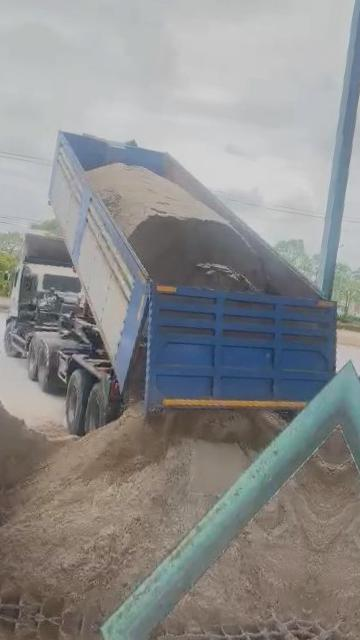sand: (0, 329, 303, 625), (165, 427, 339, 632), (87, 163, 270, 292), (0, 395, 74, 489)
